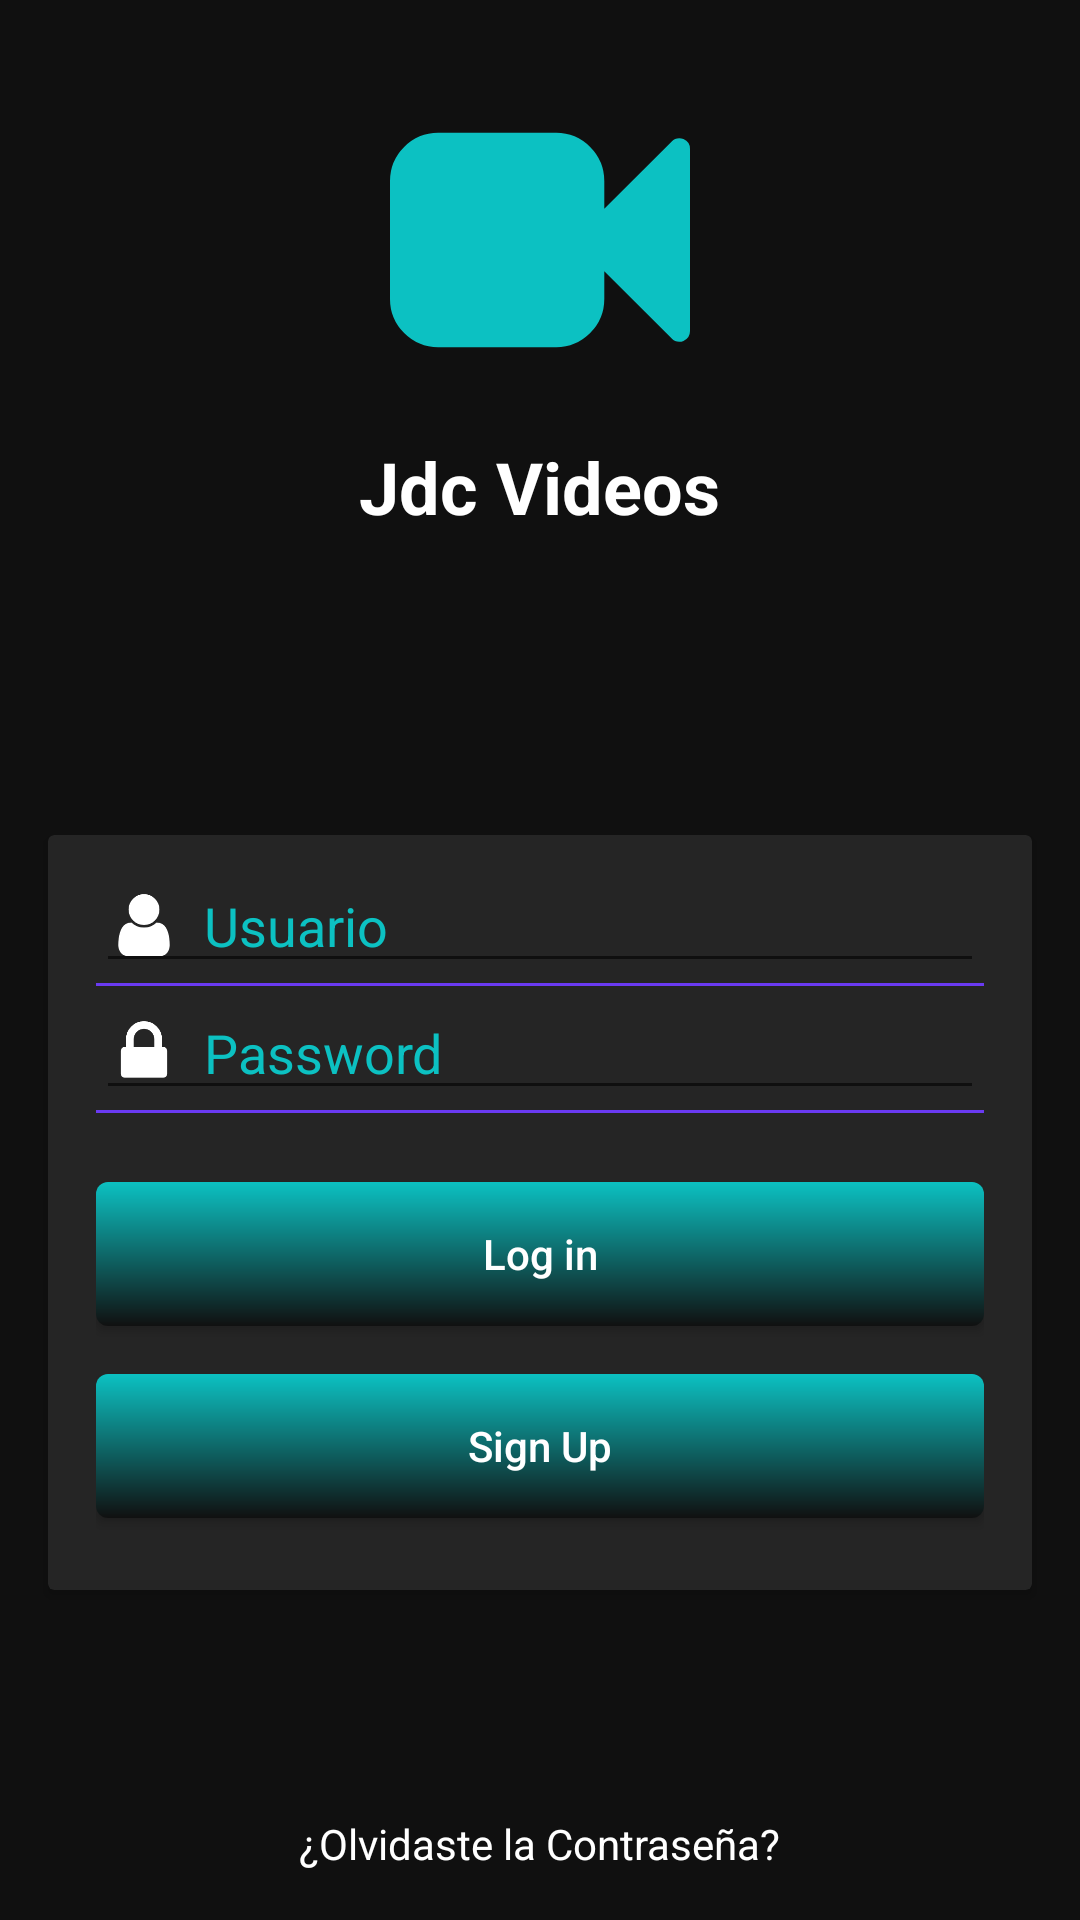

Icon bounding boxes for this 1080px×1920px phone screenshot, format Rect(x1, y1, x2, y2):
videocamara: Rect(390, 132, 690, 348)
